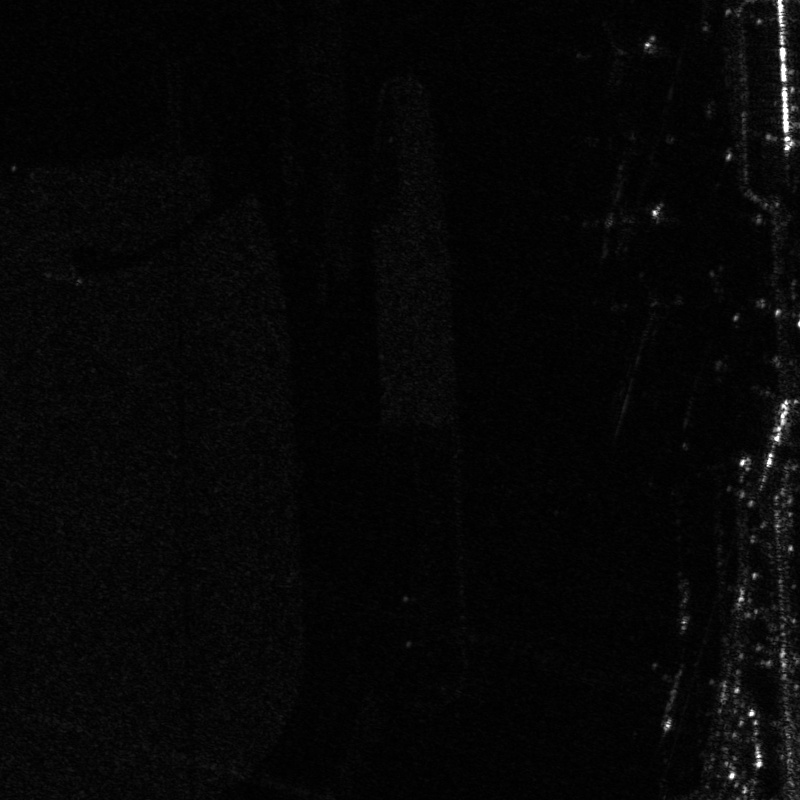A220: (565, 168, 675, 262), (565, 21, 664, 86)
ARJ21: (613, 269, 690, 343)
